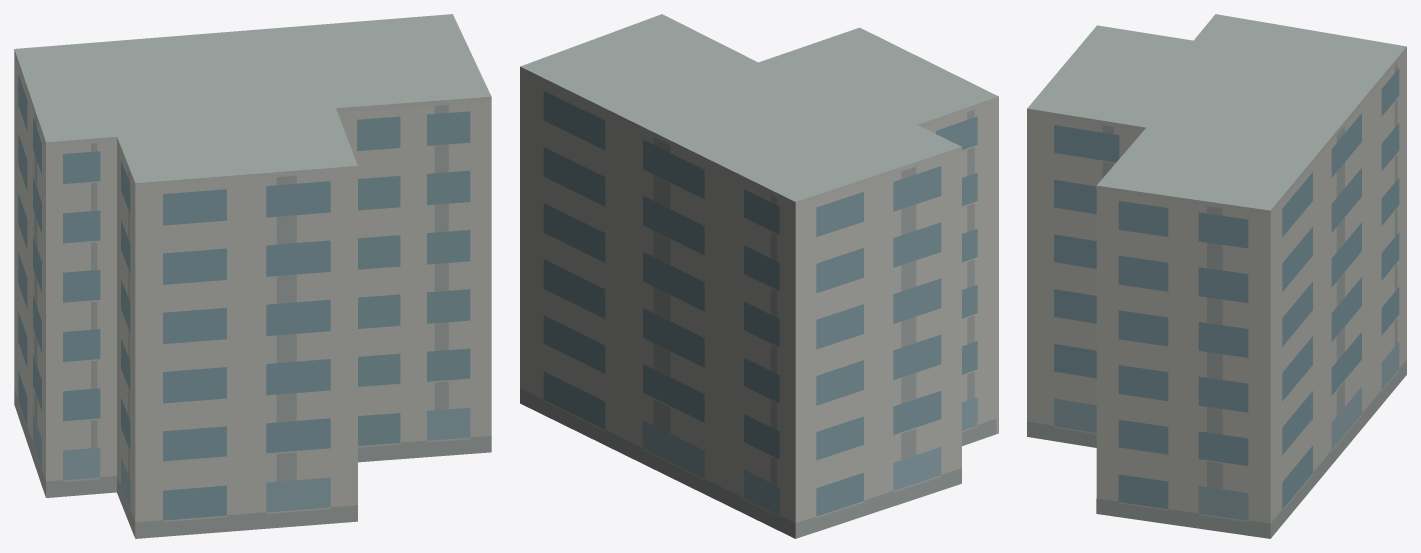
File: survey-upis-32480904.glb
3 renders of one model, left to right at view 1: azimuth 30°, elevation 25°; view 2: azimuth 150°, elevation 25°; view 3: azimuth 270°, elevation 25°, orthographic. The views are drawn at different scales.
Visible parts, largest first — view 1: survey-upis-32480904.tmp; view 2: survey-upis-32480904.tmp; view 3: survey-upis-32480904.tmp.
Part boxes in pixels (x1,y1,x2,y2): survey-upis-32480904.tmp: (14,14,491,538); survey-upis-32480904.tmp: (520,14,998,538); survey-upis-32480904.tmp: (1027,14,1406,538).
Bounding box in the file's own units: 22.23 × 17.3 × 18.14.
